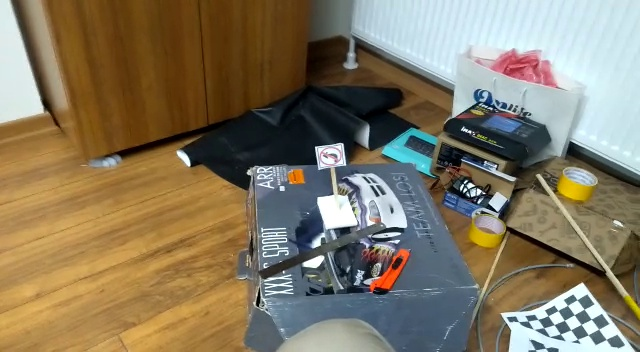sola_donulmez: (318, 144, 344, 168)
